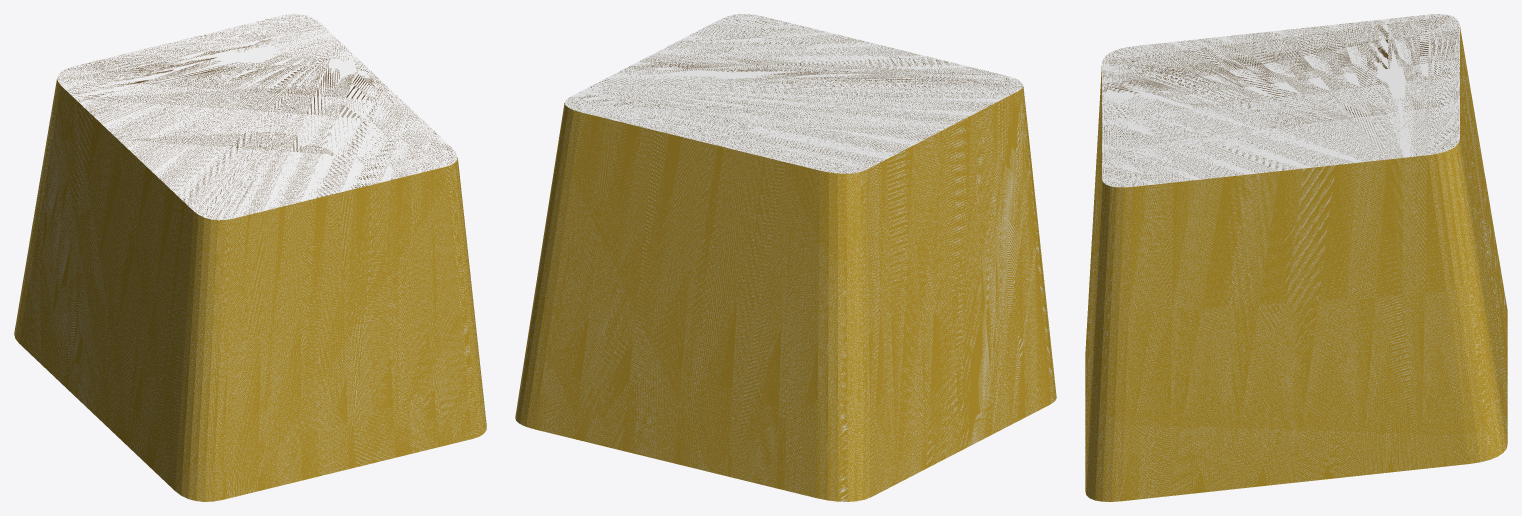
File: original-83.obj
3 renders of one model, left to right at view 1: azimuth 30°, elevation 25°; view 2: azimuth 150°, elevation 25°; view 3: azimuth 270°, elevation 25°, orthographic. The views are drawn at different scales.
Parts seen in each view (by area): view 1: mesh83/mesh83-geometry#mesh83-geometry; view 2: mesh83/mesh83-geometry#mesh83-geometry; view 3: mesh83/mesh83-geometry#mesh83-geometry.
Boxes of the visible parts, x1,y1,x2,y2 form: mesh83/mesh83-geometry#mesh83-geometry: (14,14,486,501); mesh83/mesh83-geometry#mesh83-geometry: (515,14,1056,501); mesh83/mesh83-geometry#mesh83-geometry: (1085,14,1507,501).
Size of the model in its own units: 0.0633 by 0.0606 by 0.0681.
